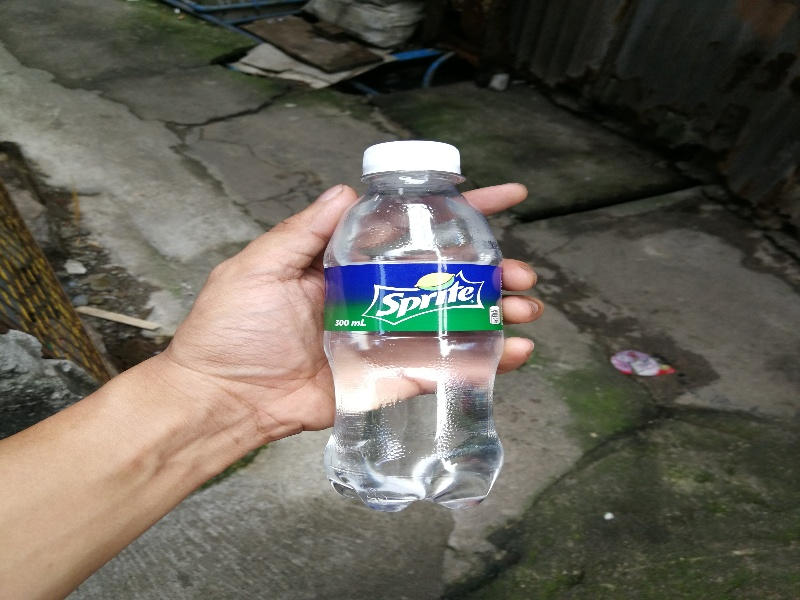PET #1: (319, 138, 513, 510)
